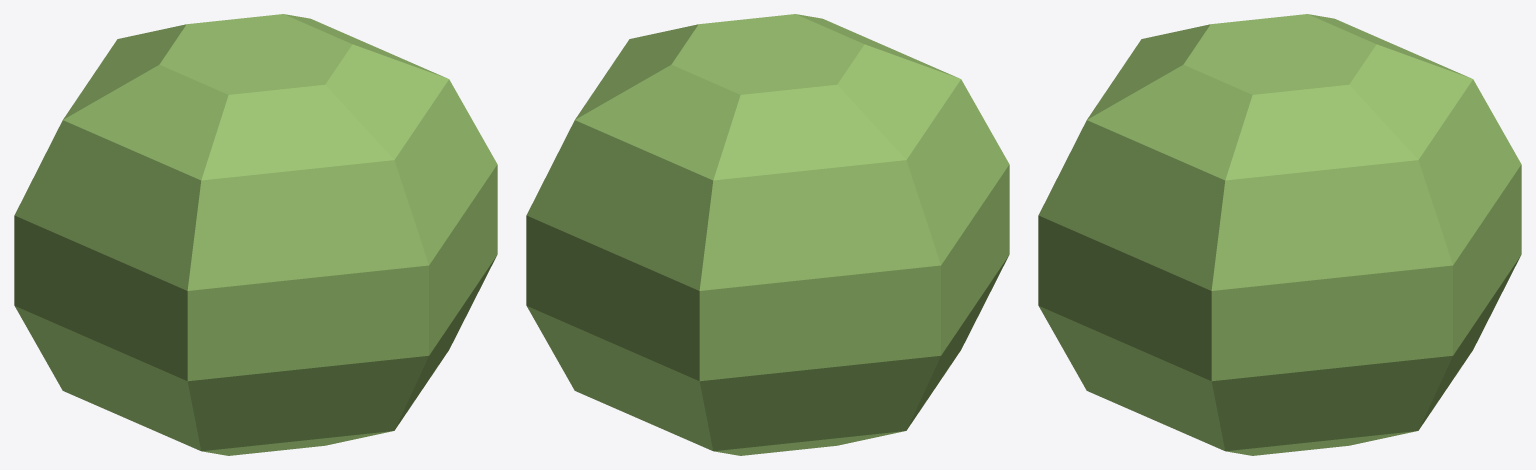
The model's file is Prop_Bush_2.gltf.
3 views of the same model, side by side, from view 1: azimuth 30°, elevation 25°; view 2: azimuth 150°, elevation 25°; view 3: azimuth 270°, elevation 25° (orthographic).
Visible parts, largest first — view 1: object1; view 2: object1; view 3: object1.
Part boxes in pixels (bbox=[...]): object1: bbox=[14, 14, 497, 455]; object1: bbox=[526, 14, 1009, 455]; object1: bbox=[1038, 14, 1521, 455].
Bounding box in the file's own units: 0.9615 × 0.8 × 0.9701.
